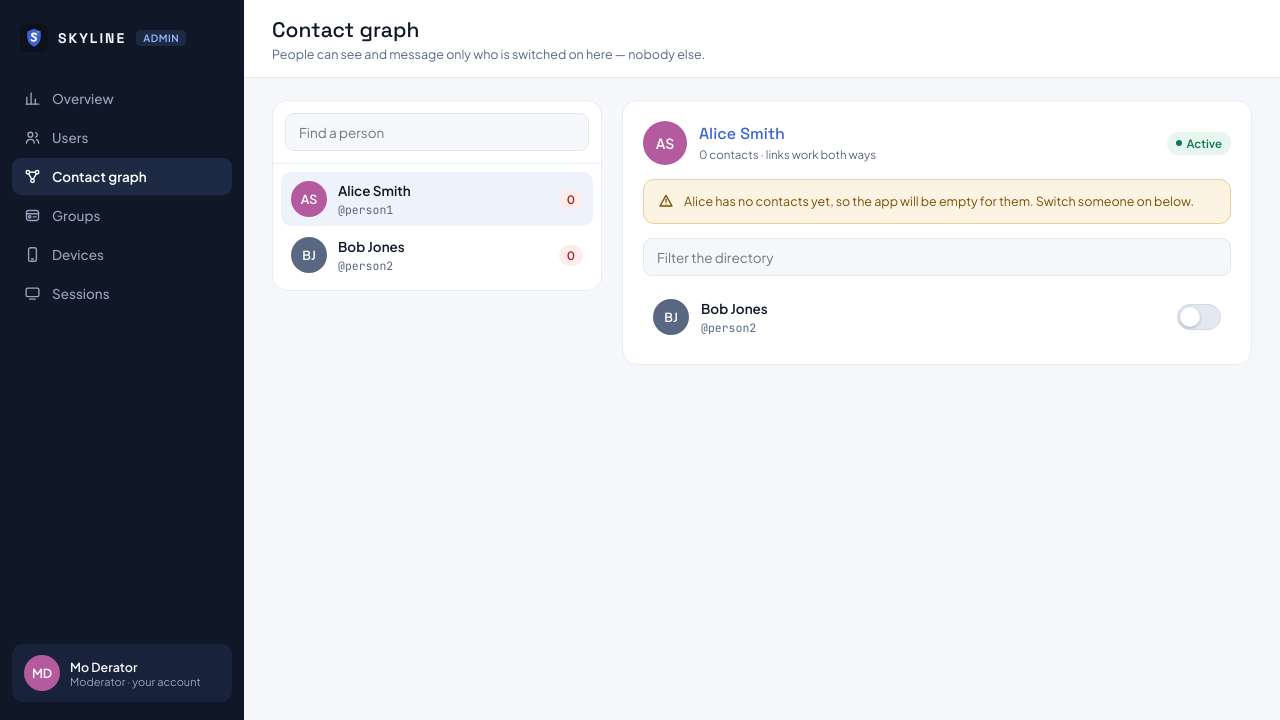
Test: contact graph › a refused change is put back and explained
Click the switch named "Alice can talk to Bob Jones".
click(1199, 317)  # box [1177, 304, 1221, 330]
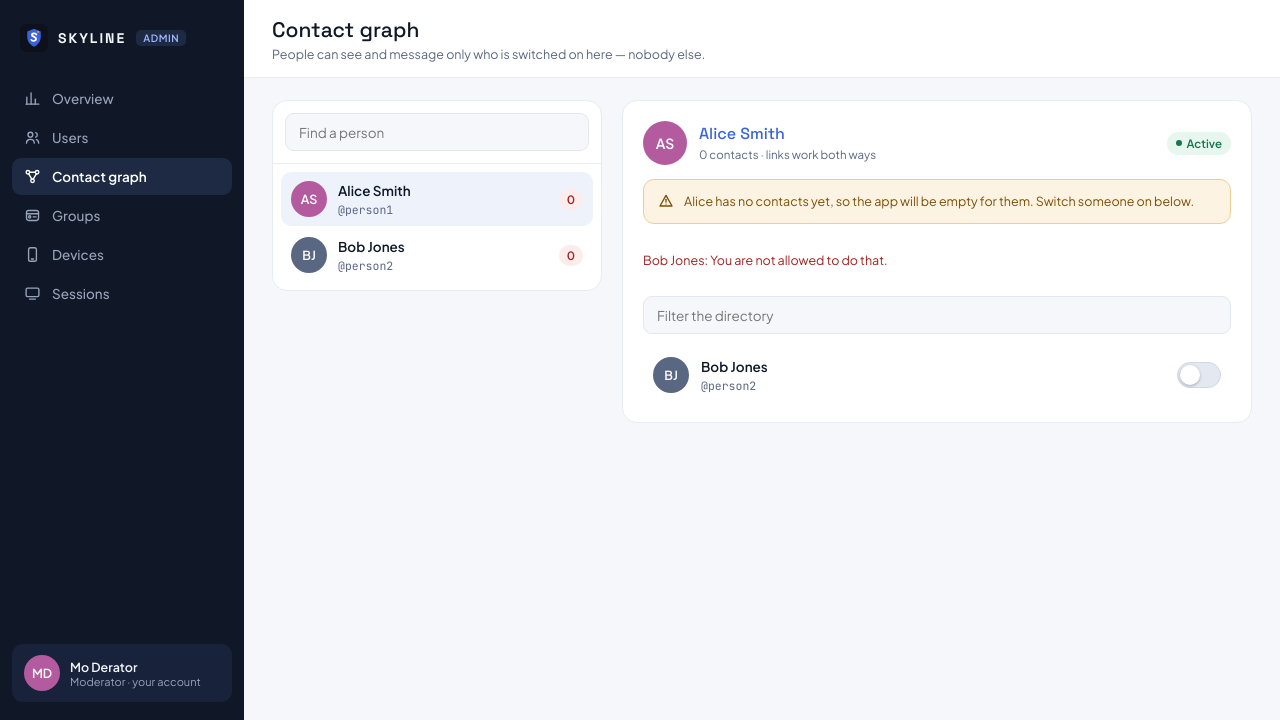
Expected: the message reads "Bob Jones: You are not allowed to do that.", [643, 252, 888, 268]
